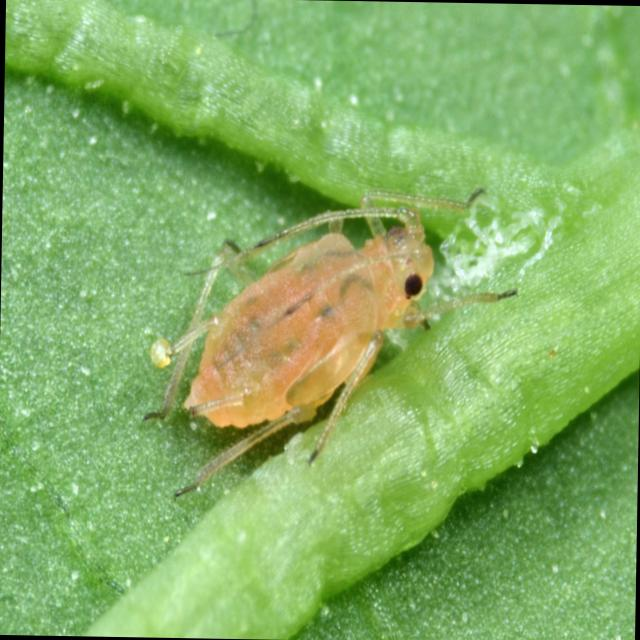Aphids: (142, 143, 444, 498)
